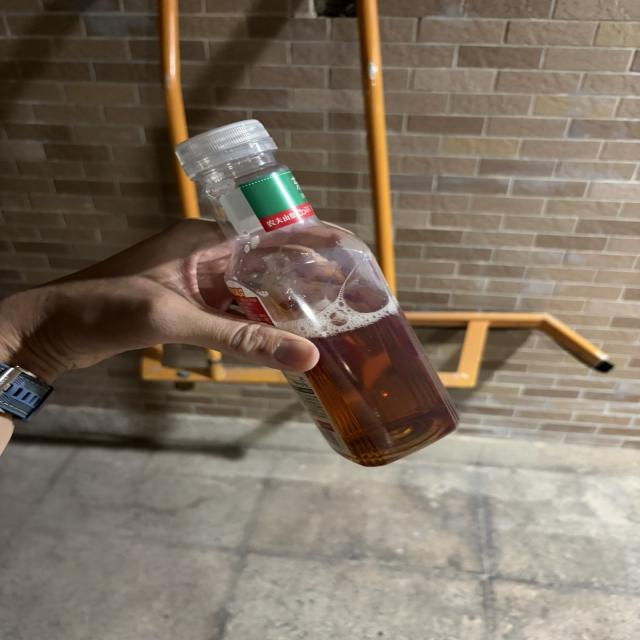medium: (176, 120, 457, 466)
